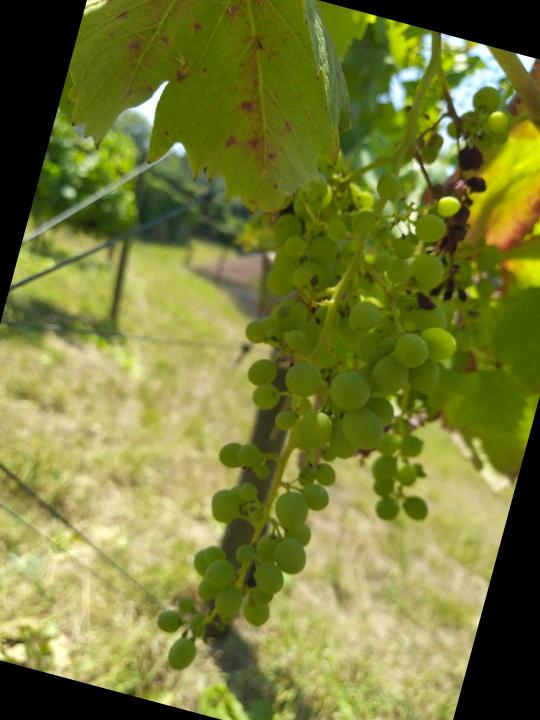grape: (143, 140, 501, 720), (393, 131, 513, 328)
